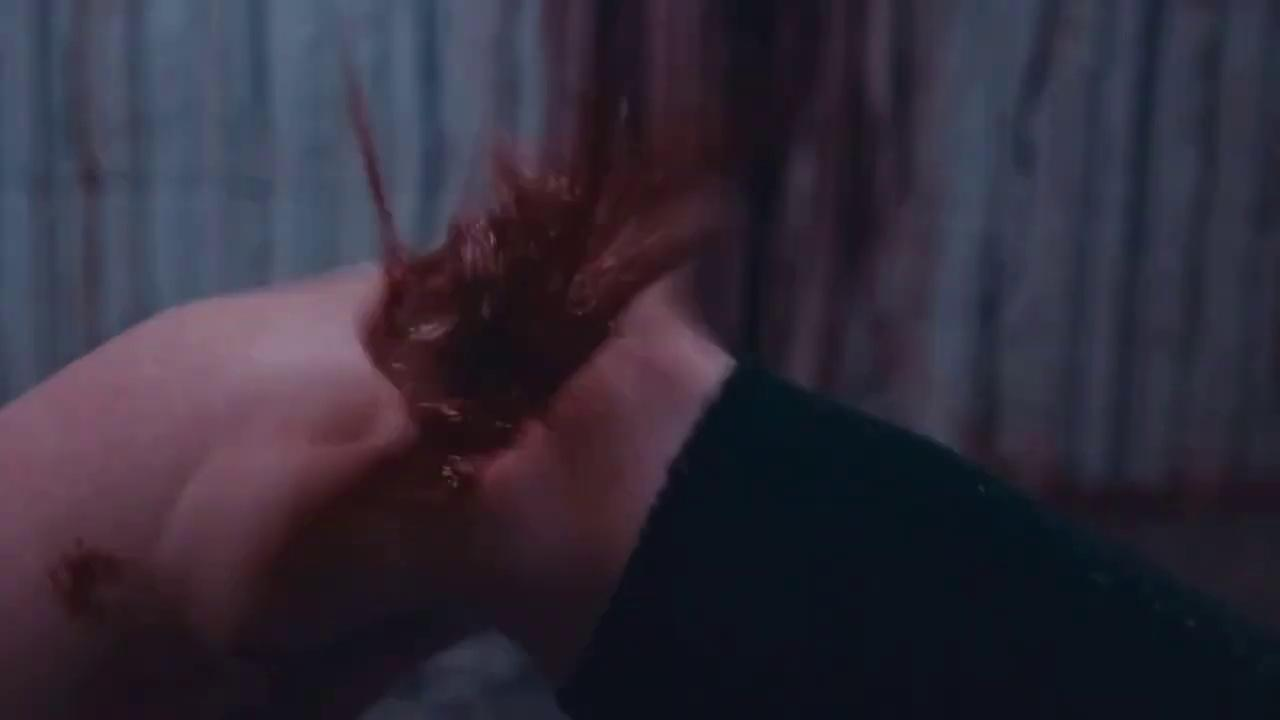Fire: (236, 0, 919, 716), (966, 373, 1280, 523), (0, 540, 262, 718)
